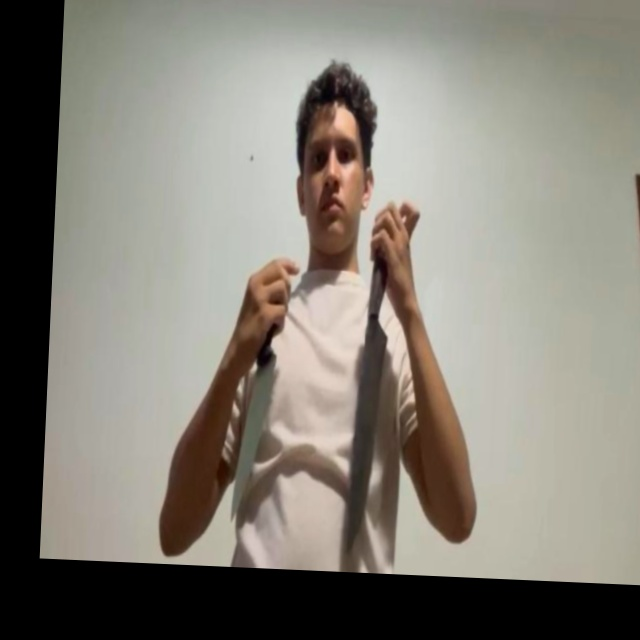Sharp-Object: (349, 321, 388, 549), (231, 348, 277, 522)
